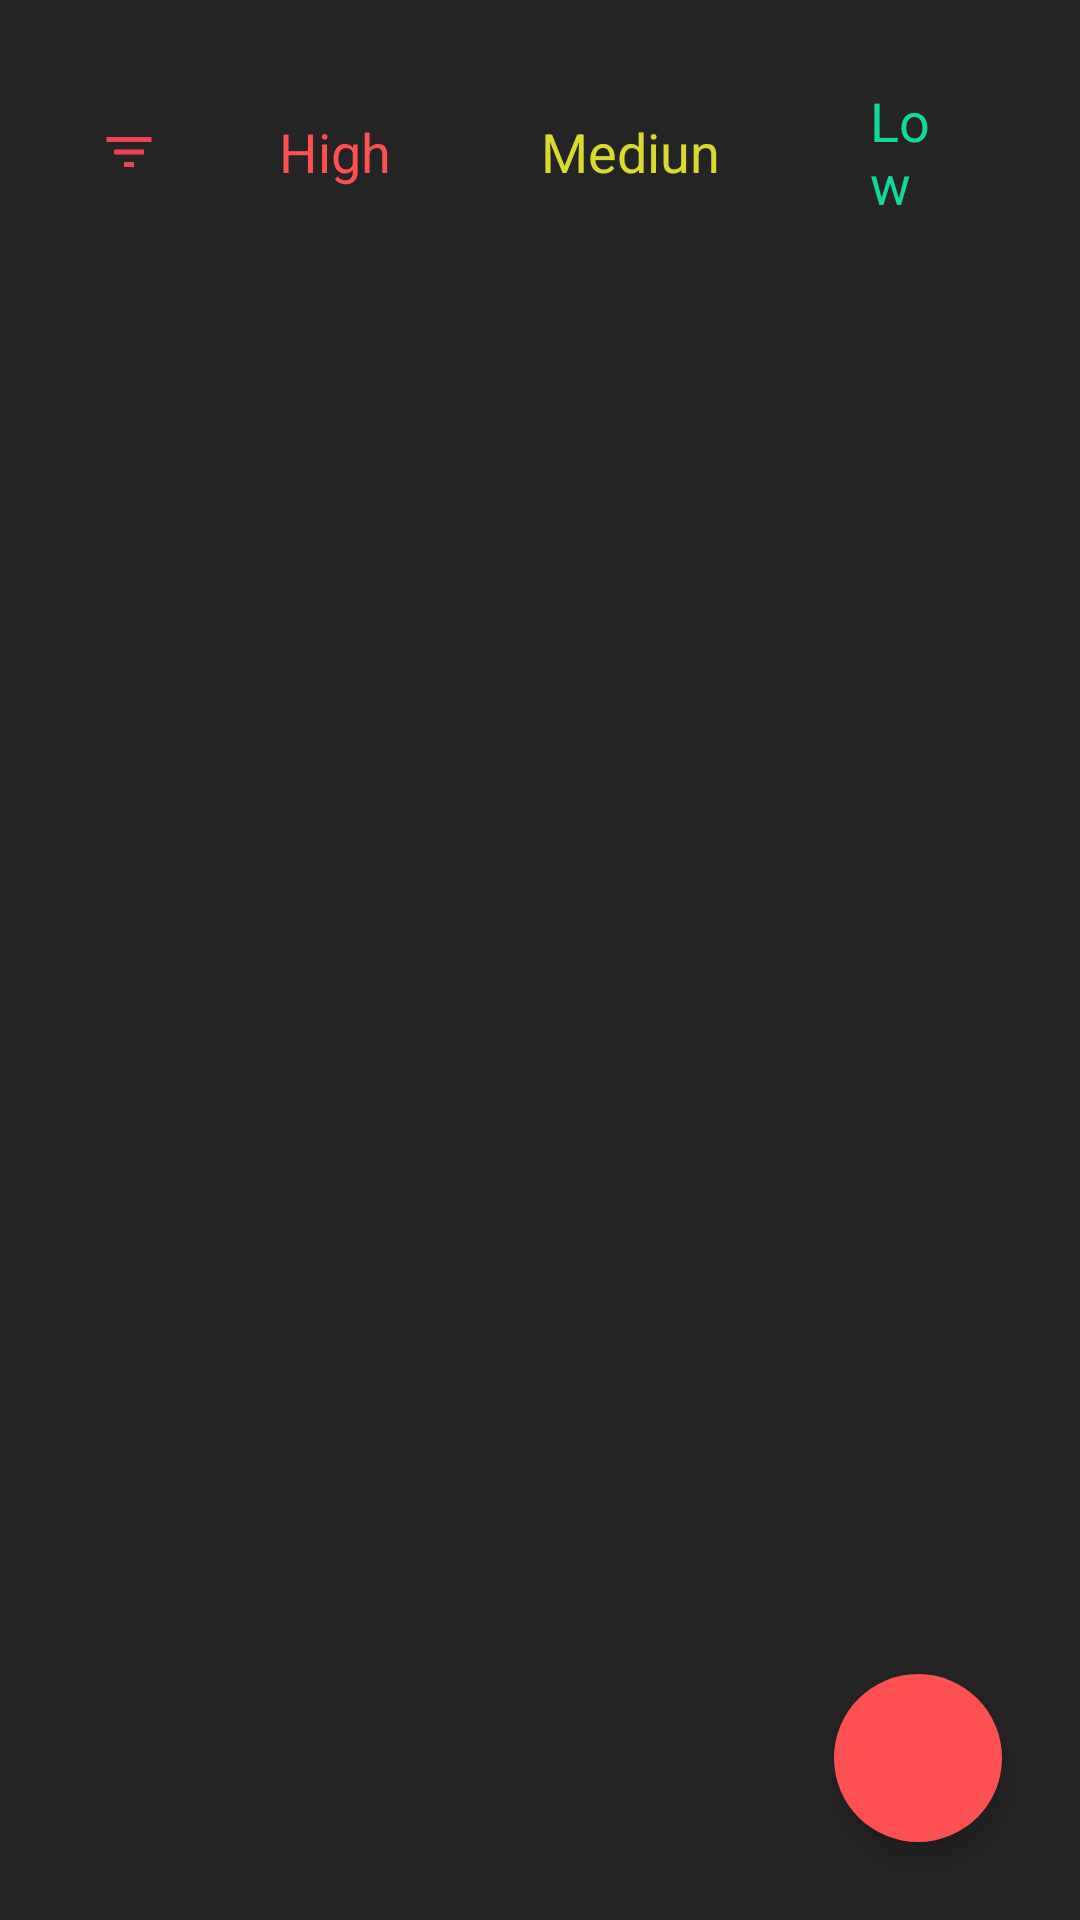

Point at icon controls on the screen. Image size 1080 x 1920, points as (x=x, y=y).
filter: (x=129, y=152)
